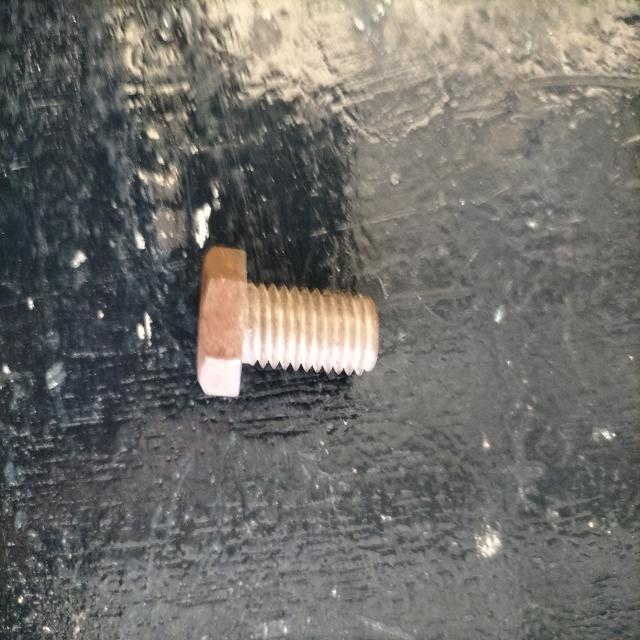bolt: (198, 245, 378, 398)
